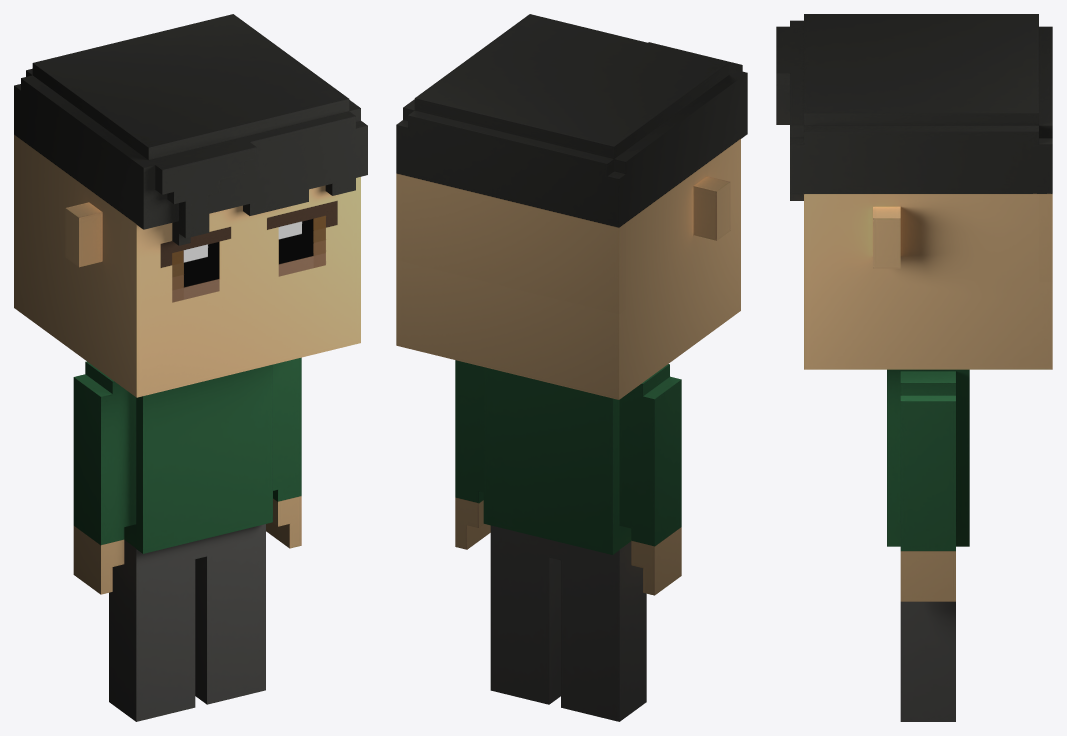
3 views of the same model, side by side, from view 1: azimuth 30°, elevation 25°; view 2: azimuth 150°, elevation 25°; view 3: azimuth 270°, elevation 25° (orthographic). The views are drawn at different scales.
Visible parts, largest first — view 1: NEWVOX.vox; view 2: NEWVOX.vox; view 3: NEWVOX.vox.
Boxes of the visible parts, x1,y1,x2,y2 form: NEWVOX.vox: (14, 14, 367, 721); NEWVOX.vox: (396, 14, 747, 721); NEWVOX.vox: (776, 14, 1052, 721).
Size of the model in its own units: 2.3 by 5 by 2.
Materials: 1 (1 with a texture image).
